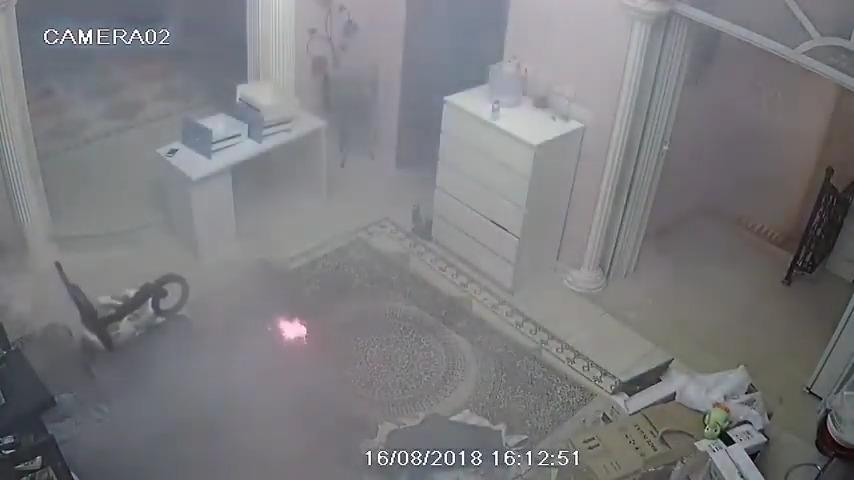fire: (279, 318, 307, 340)
